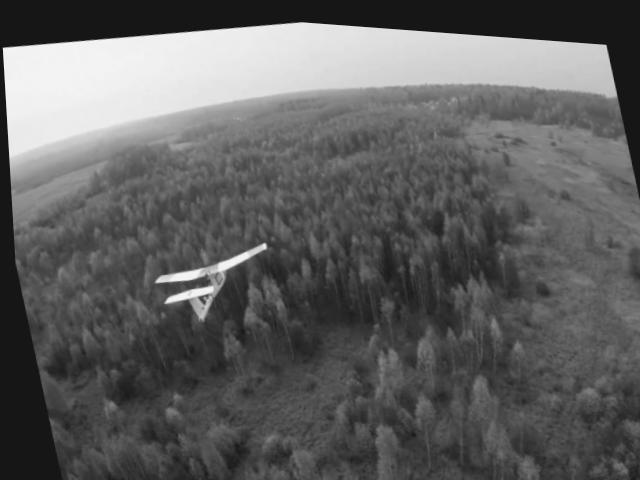hedef: (123, 222, 291, 348)
